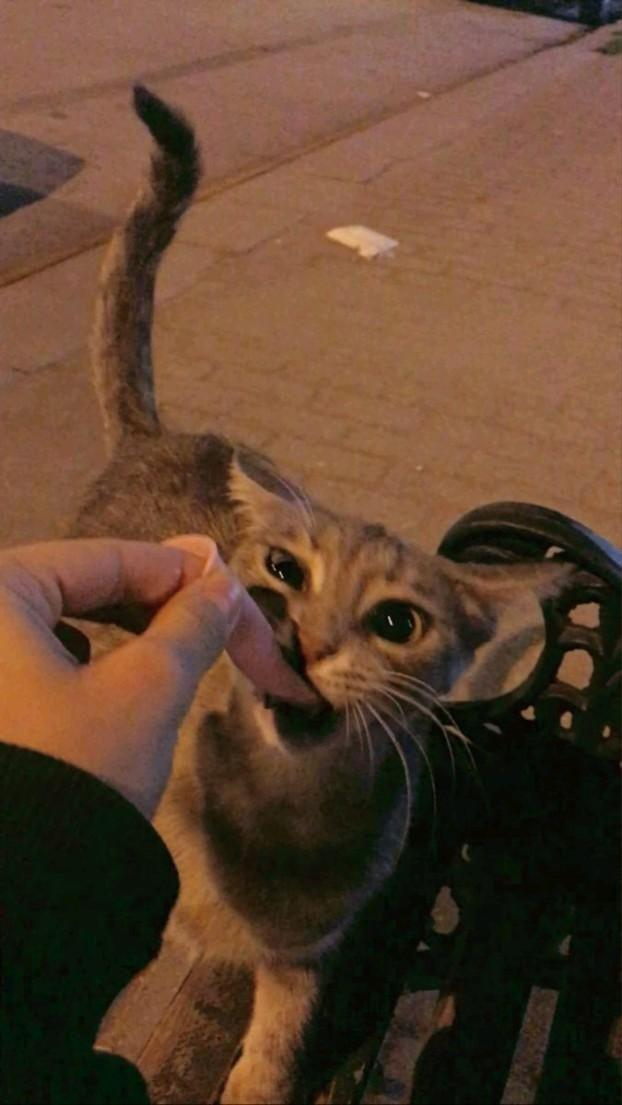kedo: (70, 82, 562, 1102)
